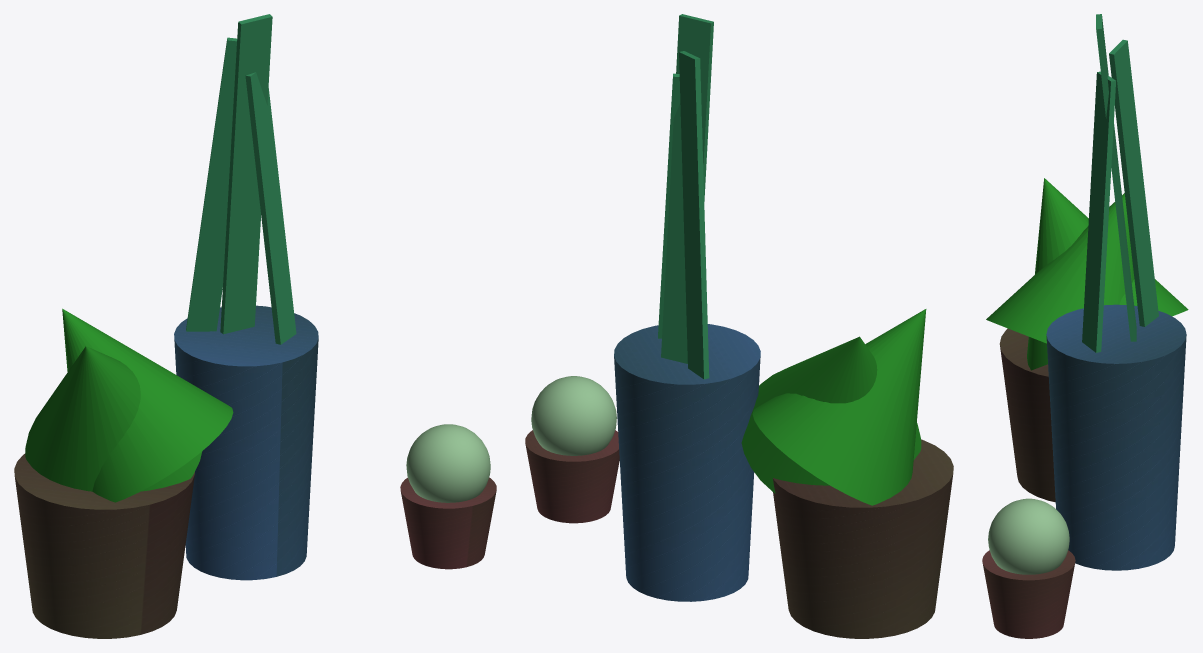
Rendered from state-default.glb.
The picture shows the model from 3 angles, left to right: view 1: azimuth 30°, elevation 25°; view 2: azimuth 150°, elevation 25°; view 3: azimuth 270°, elevation 25°; orthographic projection. The views are drawn at different scales.
Visible parts, largest first — view 1: assetPrim:39e52be49c9ec8-19c74363fc3:pot-white, assetPrim:39e52be49c9ec8-19c74363fc3:pot-grey, assetPrim:39e52be49c9ec8-19c74363fc3:bush-2, assetPrim:39e52be49c9ec8-19c74363fc3:bush-1, assetPrim:39e52be49c9ec8-19c74363fc3:snake-1, assetPrim:39e52be49c9ec8-19c74363fc3:snake-3, assetPrim:39e52be49c9ec8-19c74363fc3:pot-terracotta, assetPrim:39e52be49c9ec8-19c74363fc3:snake-2, assetPrim:39e52be49c9ec8-19c74363fc3:succulent; view 2: assetPrim:39e52be49c9ec8-19c74363fc3:pot-white, assetPrim:39e52be49c9ec8-19c74363fc3:pot-grey, assetPrim:39e52be49c9ec8-19c74363fc3:bush-1, assetPrim:39e52be49c9ec8-19c74363fc3:bush-2, assetPrim:39e52be49c9ec8-19c74363fc3:snake-3, assetPrim:39e52be49c9ec8-19c74363fc3:snake-1, assetPrim:39e52be49c9ec8-19c74363fc3:pot-terracotta, assetPrim:39e52be49c9ec8-19c74363fc3:succulent, assetPrim:39e52be49c9ec8-19c74363fc3:snake-2; view 3: assetPrim:39e52be49c9ec8-19c74363fc3:pot-white, assetPrim:39e52be49c9ec8-19c74363fc3:bush-2, assetPrim:39e52be49c9ec8-19c74363fc3:pot-grey, assetPrim:39e52be49c9ec8-19c74363fc3:snake-3, assetPrim:39e52be49c9ec8-19c74363fc3:pot-terracotta, assetPrim:39e52be49c9ec8-19c74363fc3:snake-2, assetPrim:39e52be49c9ec8-19c74363fc3:succulent, assetPrim:39e52be49c9ec8-19c74363fc3:bush-1, assetPrim:39e52be49c9ec8-19c74363fc3:snake-1.
Part boxes in pixels (x1,y1,x2,y2): assetPrim:39e52be49c9ec8-19c74363fc3:pot-white: (174, 305, 318, 580); assetPrim:39e52be49c9ec8-19c74363fc3:pot-grey: (14, 453, 194, 638); assetPrim:39e52be49c9ec8-19c74363fc3:bush-2: (62, 308, 233, 502); assetPrim:39e52be49c9ec8-19c74363fc3:bush-1: (25, 346, 202, 491); assetPrim:39e52be49c9ec8-19c74363fc3:snake-1: (220, 14, 272, 334); assetPrim:39e52be49c9ec8-19c74363fc3:snake-3: (186, 37, 237, 331); assetPrim:39e52be49c9ec8-19c74363fc3:pot-terracotta: (400, 477, 496, 569); assetPrim:39e52be49c9ec8-19c74363fc3:snake-2: (245, 72, 296, 344); assetPrim:39e52be49c9ec8-19c74363fc3:succulent: (406, 424, 490, 502); assetPrim:39e52be49c9ec8-19c74363fc3:pot-white: (614, 324, 760, 601); assetPrim:39e52be49c9ec8-19c74363fc3:pot-grey: (773, 439, 953, 638); assetPrim:39e52be49c9ec8-19c74363fc3:bush-1: (752, 309, 926, 505); assetPrim:39e52be49c9ec8-19c74363fc3:bush-2: (741, 336, 921, 493); assetPrim:39e52be49c9ec8-19c74363fc3:snake-3: (679, 51, 709, 379); assetPrim:39e52be49c9ec8-19c74363fc3:snake-1: (661, 14, 713, 363); assetPrim:39e52be49c9ec8-19c74363fc3:pot-terracotta: (525, 430, 619, 523); assetPrim:39e52be49c9ec8-19c74363fc3:succulent: (531, 376, 616, 455); assetPrim:39e52be49c9ec8-19c74363fc3:snake-2: (658, 73, 680, 338); assetPrim:39e52be49c9ec8-19c74363fc3:pot-white: (1046, 304, 1186, 570); assetPrim:39e52be49c9ec8-19c74363fc3:bush-2: (986, 193, 1134, 343); assetPrim:39e52be49c9ec8-19c74363fc3:pot-grey: (999, 328, 1055, 502); assetPrim:39e52be49c9ec8-19c74363fc3:snake-3: (1109, 39, 1158, 326); assetPrim:39e52be49c9ec8-19c74363fc3:pot-terracotta: (982, 550, 1075, 638); assetPrim:39e52be49c9ec8-19c74363fc3:snake-2: (1082, 71, 1115, 352); assetPrim:39e52be49c9ec8-19c74363fc3:succulent: (988, 498, 1069, 574); assetPrim:39e52be49c9ec8-19c74363fc3:bush-1: (1027, 178, 1188, 370); assetPrim:39e52be49c9ec8-19c74363fc3:snake-1: (1096, 14, 1136, 341).
Size of the model in its own units: 0.83 by 0.999 by 0.3537.
9 materials, 3 textured.
